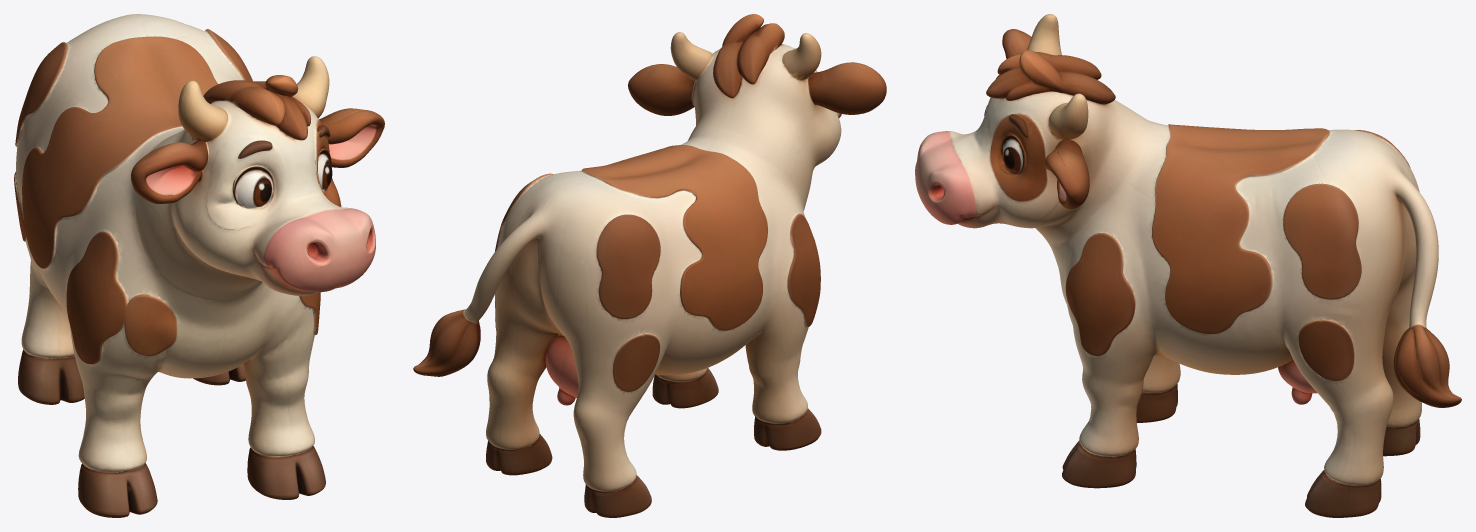
Rendered from Cow.fbx.
The picture shows the model from 3 angles, left to right: view 1: azimuth 30°, elevation 25°; view 2: azimuth 150°, elevation 25°; view 3: azimuth 270°, elevation 25°; orthographic projection. The views are drawn at different scales.
Parts seen in each view (by area): view 1: tripo_node_fb498a34-dd82-475e-89c9-b44baaa07364; view 2: tripo_node_fb498a34-dd82-475e-89c9-b44baaa07364; view 3: tripo_node_fb498a34-dd82-475e-89c9-b44baaa07364.
Boxes of the visible parts, <box> form: tripo_node_fb498a34-dd82-475e-89c9-b44baaa07364: <box>14,14,384,517</box>; tripo_node_fb498a34-dd82-475e-89c9-b44baaa07364: <box>413,14,886,517</box>; tripo_node_fb498a34-dd82-475e-89c9-b44baaa07364: <box>915,14,1461,517</box>.
Bounding box in the file's own units: 61.94 × 81.41 × 98.06.
1 material, 1 textured.
